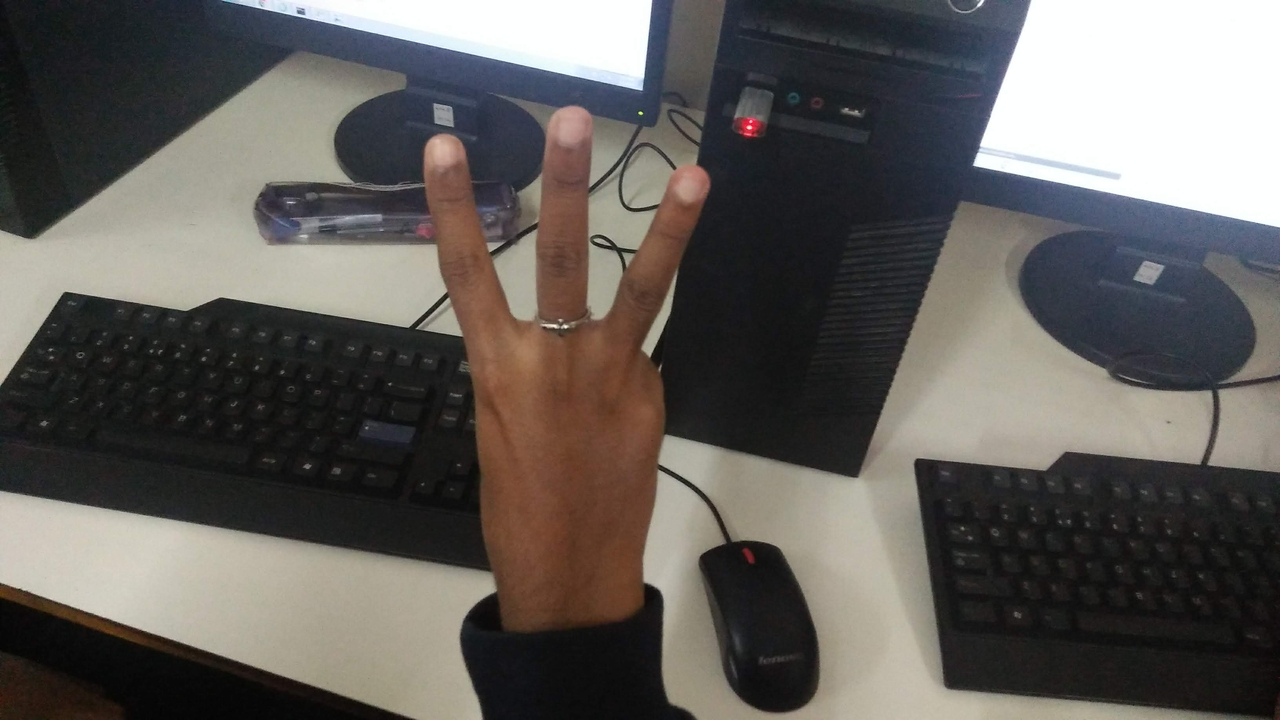fingertip: (652, 152, 718, 218), (536, 98, 600, 154), (414, 126, 470, 182)
